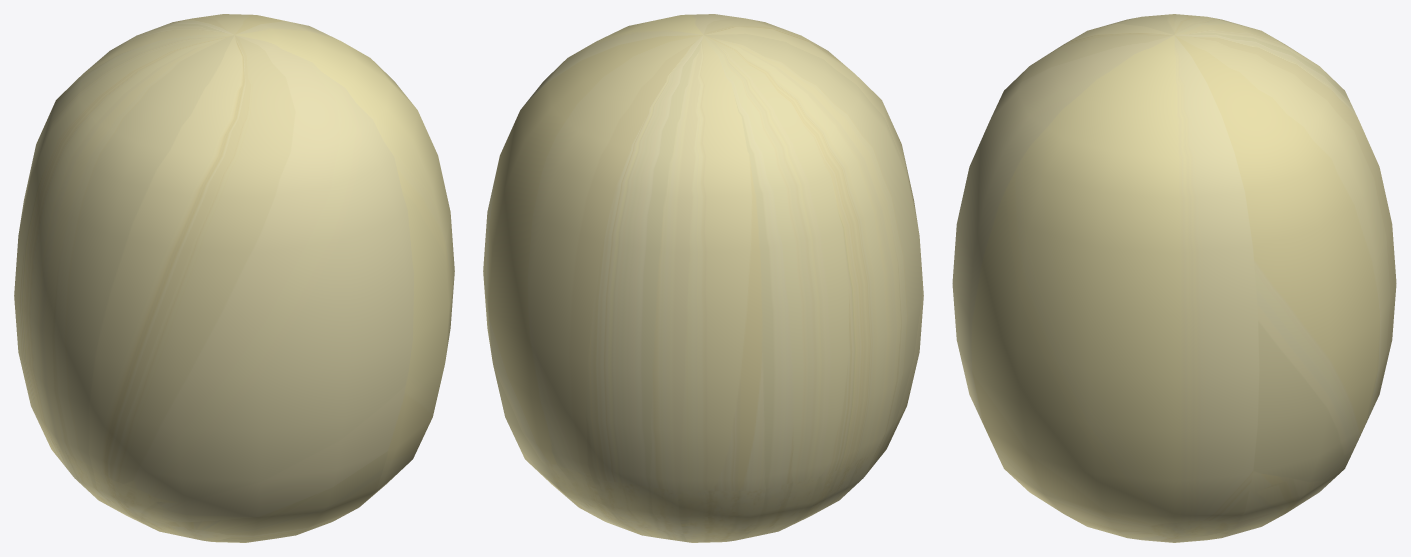
File: kiwi_T.fbx
The picture shows the model from 3 angles, left to right: view 1: azimuth 30°, elevation 25°; view 2: azimuth 150°, elevation 25°; view 3: azimuth 270°, elevation 25°; orthographic projection.
Parts seen in each view (by area): view 1: kiwi; view 2: kiwi; view 3: kiwi.
Boxes of the visible parts, box(x1,y1,x2,y2) form: kiwi: box(14, 14, 454, 542); kiwi: box(483, 14, 923, 542); kiwi: box(952, 14, 1396, 542).
Size of the model in its own units: 2 by 2.41 by 2.
